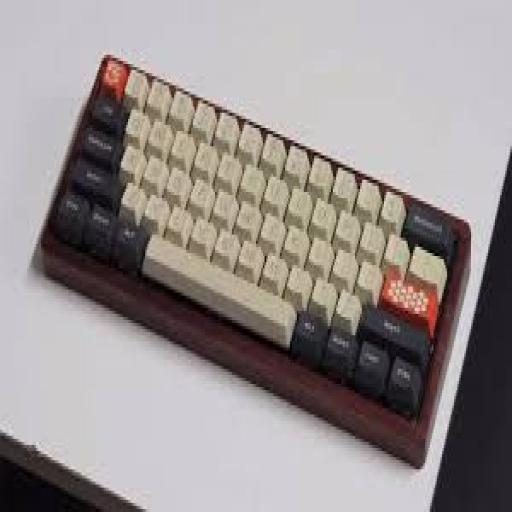KEYBOARD-2: (43, 55, 469, 463)
